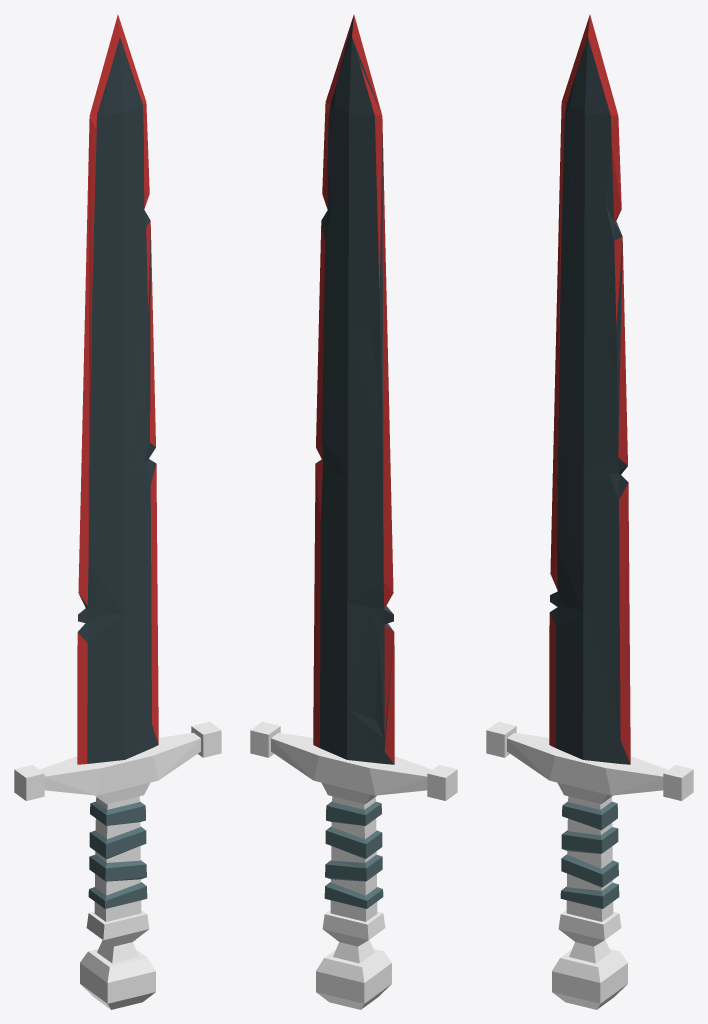
The model's file is bloodLongSword.fbx.
3 renders of one model, left to right at view 1: azimuth 30°, elevation 25°; view 2: azimuth 150°, elevation 25°; view 3: azimuth 330°, elevation 25°, orthographic.
Visible parts, largest first — view 1: BloodLongsword; view 2: BloodLongsword; view 3: BloodLongsword.
Boxes of the visible parts, left/top/right/bottom form: BloodLongsword: left=14, top=15, right=221, bottom=1009; BloodLongsword: left=250, top=15, right=457, bottom=1009; BloodLongsword: left=486, top=15, right=693, bottom=1009.
Bounding box in the file's own units: 131 × 630 × 32.08.
